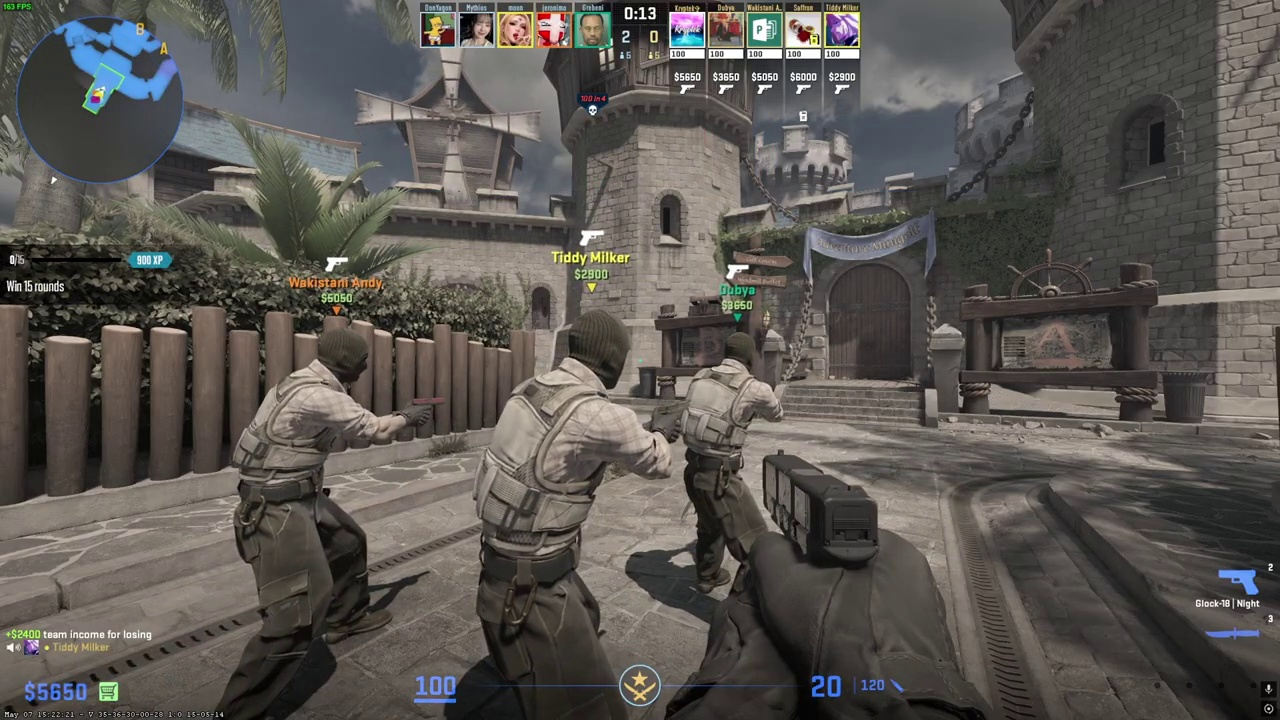Terrorist: (472, 309, 650, 720), (222, 327, 386, 720), (680, 332, 778, 600)
